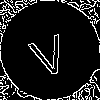V: (25, 25, 71, 79)
